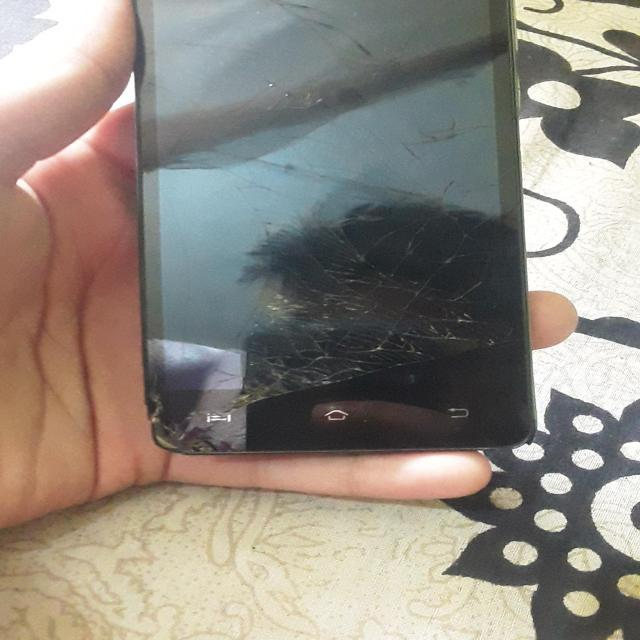phone: (120, 0, 546, 463)
